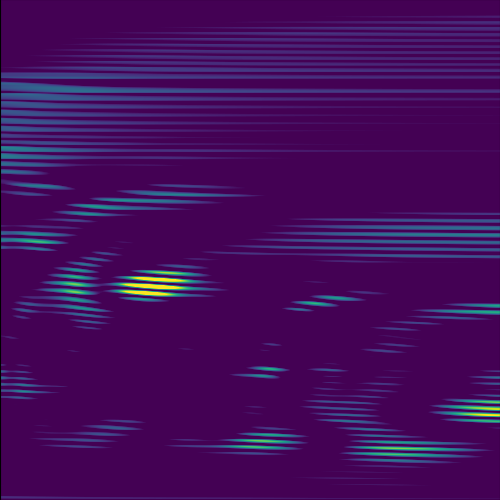semblance: (112, 264, 212, 309), (434, 391, 500, 430)
